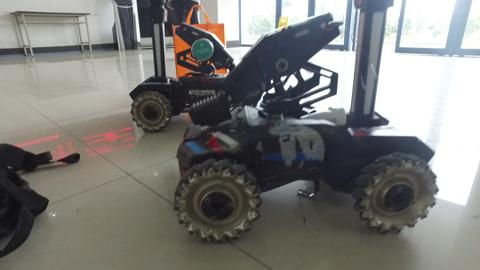chariot: (173, 1, 443, 243), (123, 1, 219, 130)
